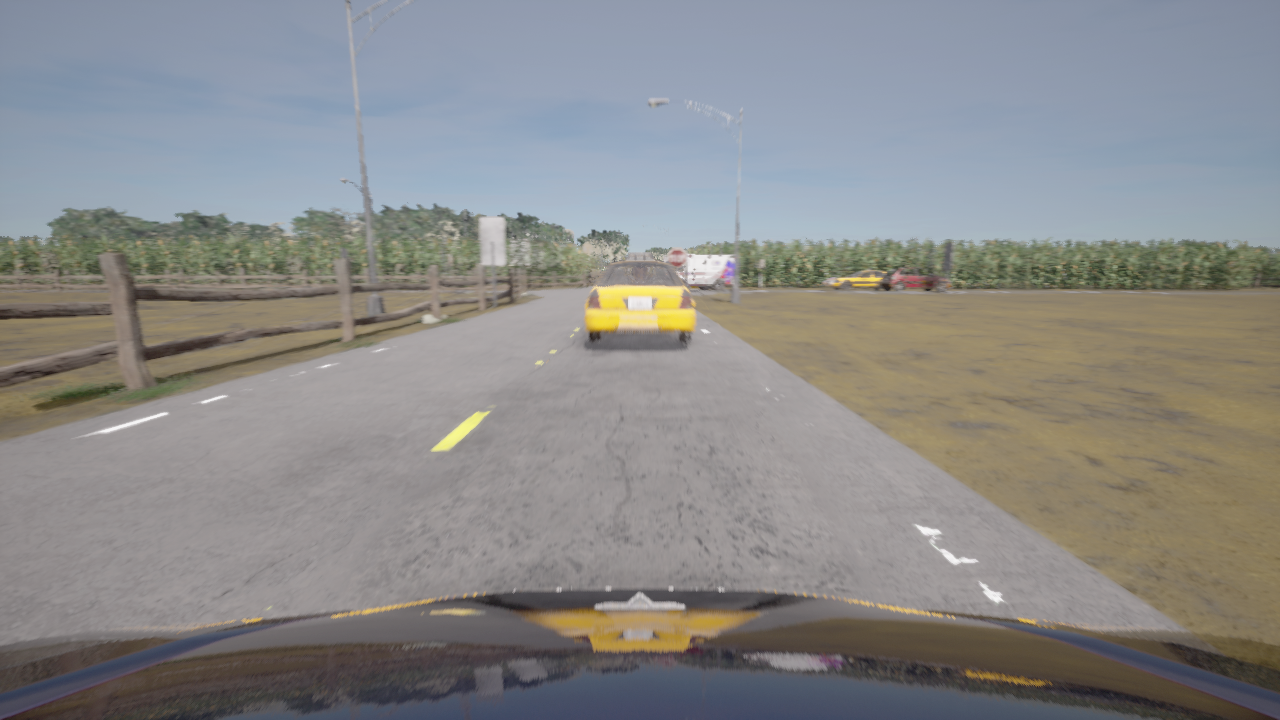cyclist: (0, 588, 1279, 719), (585, 253, 694, 342), (666, 254, 740, 291), (880, 267, 949, 292), (824, 269, 885, 290)
